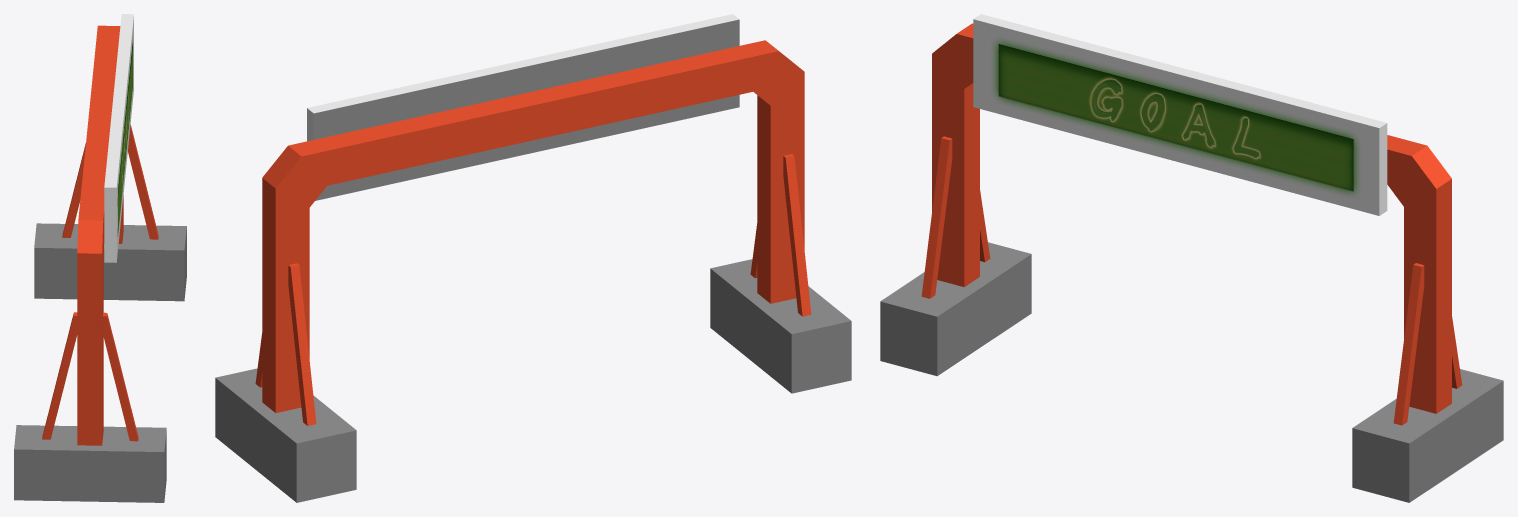
File: GoalGate.fbx
3 renders of one model, left to right at view 1: azimuth 30°, elevation 25°; view 2: azimuth 150°, elevation 25°; view 3: azimuth 270°, elevation 25°, orthographic. The views are drawn at different scales.
Visible parts, largest first — view 1: OBJ_Gate1; view 2: OBJ_Gate1; view 3: OBJ_Gate1.
Boxes of the visible parts, x1=… form: OBJ_Gate1: x1=14, y1=14, x2=186, y2=502; OBJ_Gate1: x1=215, y1=14, x2=851, y2=502; OBJ_Gate1: x1=880, y1=14, x2=1503, y2=502.
Size of the model in its own units: 11.76 by 9.03 by 15.13.
